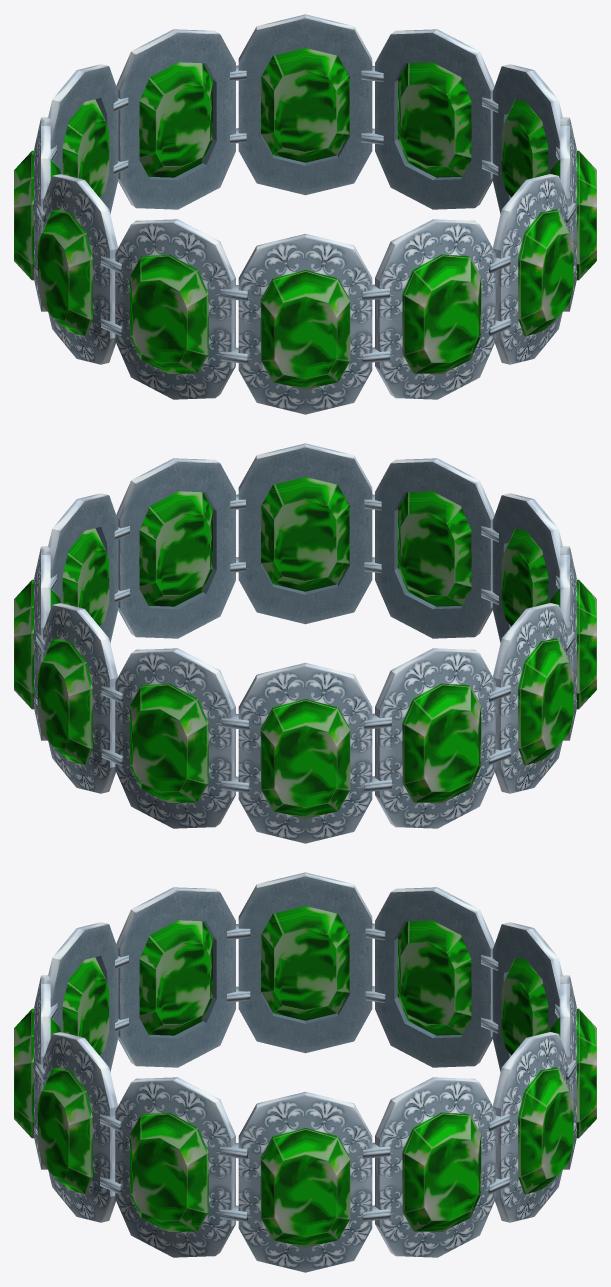
File: bracelet_04.fbx
The picture shows the model from 3 angles, top to bottom: view 1: azimuth 30°, elevation 25°; view 2: azimuth 150°, elevation 25°; view 3: azimuth 270°, elevation 25°; orthographic projection.
Parts seen in each view (by area): view 1: bracelet_04; view 2: bracelet_04; view 3: bracelet_04.
Boxes of the visible parts, left/top/right/bottom form: bracelet_04: left=14, top=14, right=596, bottom=414; bracelet_04: left=14, top=443, right=596, bottom=843; bracelet_04: left=14, top=872, right=596, bottom=1272.
Size of the model in its own units: 7.94 by 2.66 by 7.94.
